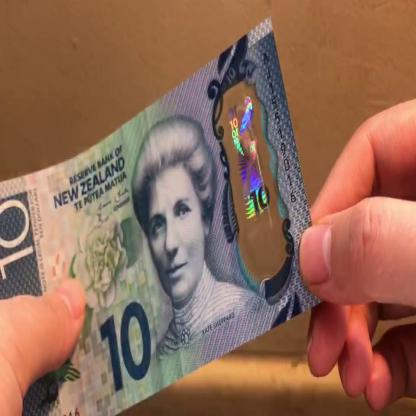10B: (227, 89, 276, 223)
